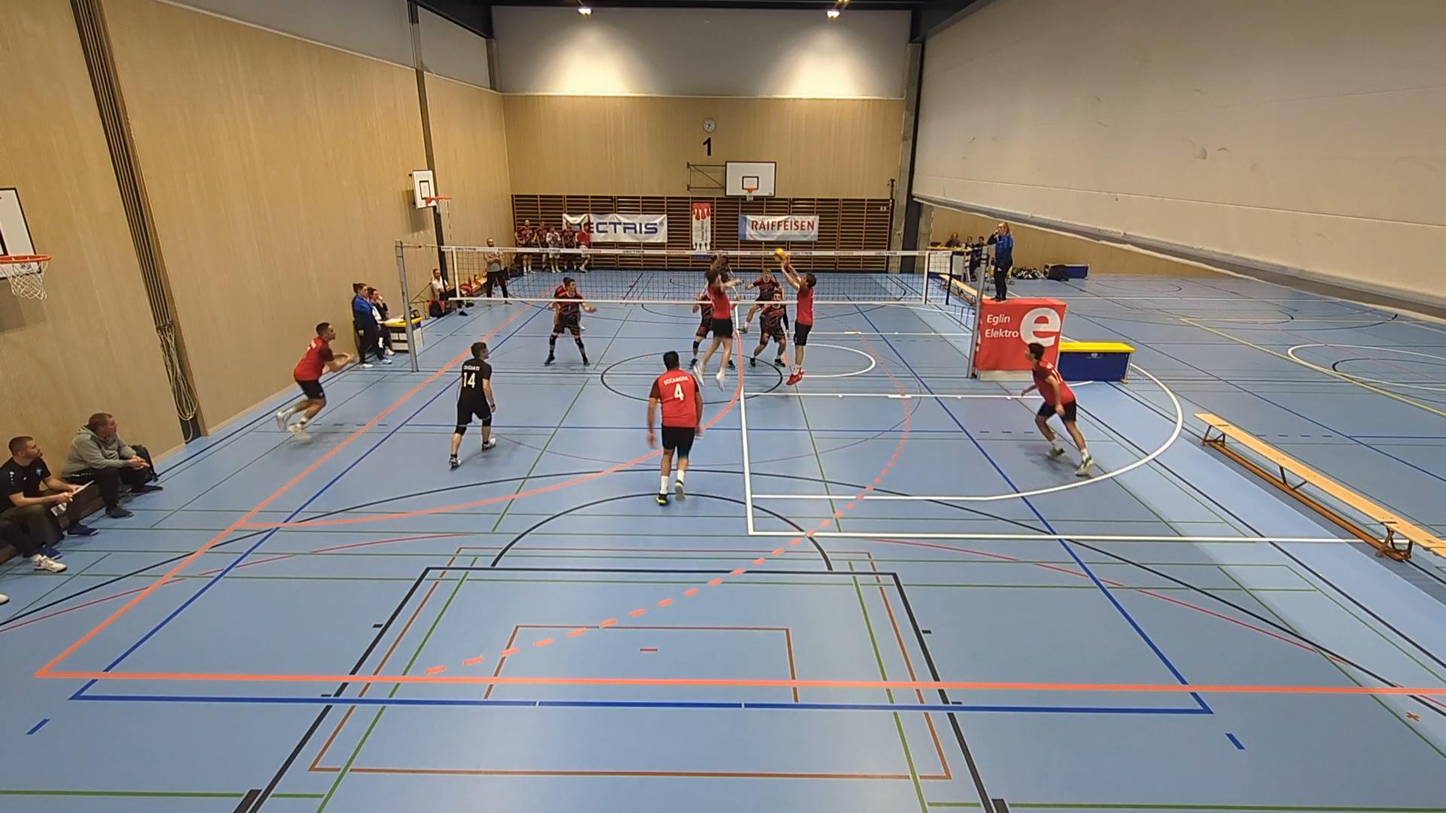alzata: (774, 256, 824, 381)
attacco: (692, 247, 743, 373)
